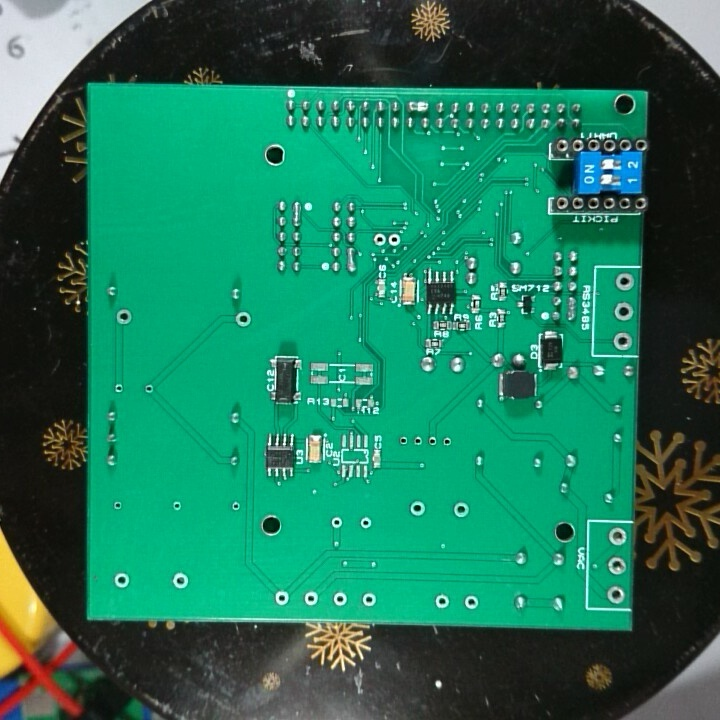F: (607, 524, 629, 551), (606, 554, 629, 578), (407, 496, 429, 521), (611, 331, 636, 352), (613, 270, 635, 293), (232, 309, 255, 330), (111, 568, 132, 591), (613, 301, 636, 322), (451, 498, 471, 522), (301, 589, 323, 610), (461, 592, 483, 613), (358, 589, 378, 611), (604, 585, 626, 605), (171, 569, 189, 593), (115, 307, 133, 330), (330, 589, 350, 609), (432, 592, 452, 611), (274, 589, 292, 609), (385, 229, 403, 248), (329, 513, 346, 532), (228, 497, 244, 517), (396, 431, 412, 450), (169, 497, 187, 513), (369, 232, 387, 248), (111, 496, 126, 514), (359, 516, 374, 534), (441, 433, 456, 451), (111, 381, 127, 397), (425, 434, 440, 451), (142, 381, 157, 396), (411, 432, 425, 448)
P: (406, 98, 435, 116), (343, 244, 359, 276), (565, 293, 579, 325), (290, 199, 304, 230)
